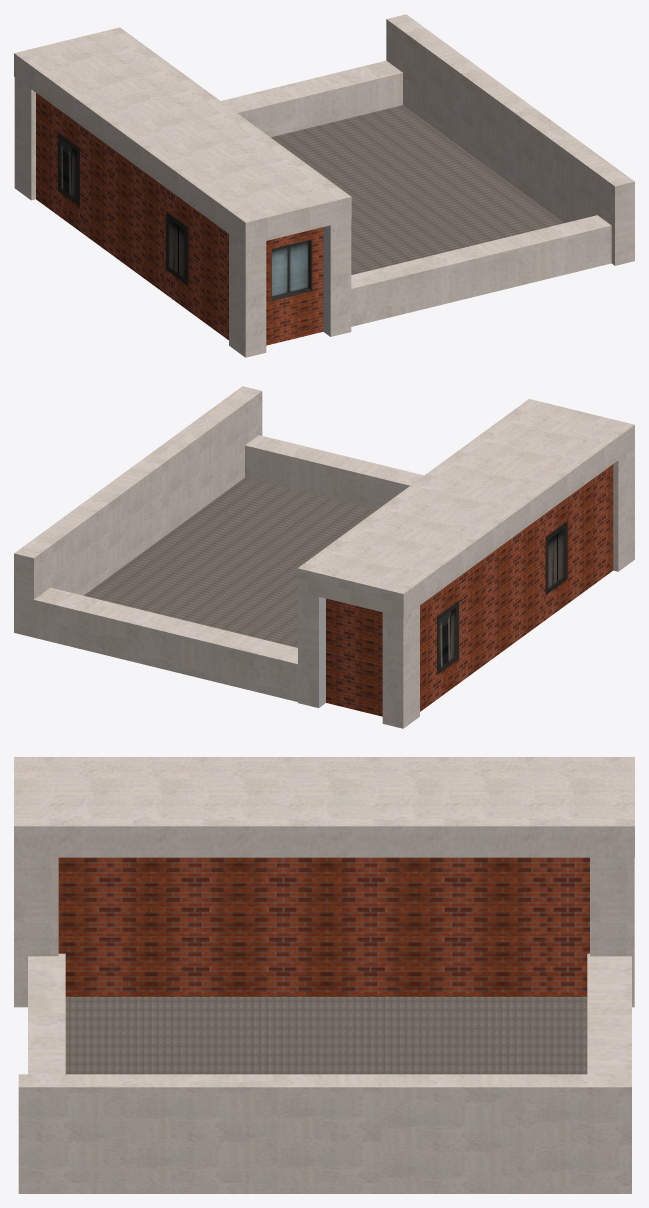
The model's file is building01_3f_02.fbx.
The picture shows the model from 3 angles, top to bottom: view 1: azimuth 30°, elevation 25°; view 2: azimuth 150°, elevation 25°; view 3: azimuth 270°, elevation 25°; orthographic projection. The views are drawn at different scales.
Parts seen in each view (by area): view 1: polySurface11, yane, polySurface14, polySurface13, huti3lf, huti3rf, huti3lb; view 2: polySurface11, yane, polySurface14, polySurface13, huti3lb, huti3rb, huti3lf; view 3: polySurface14, polySurface13, yane, polySurface11, huti3rf, huti3rb.
Part boxes in pixels (left/top/right/bottom): polySurface11: left=221, top=60, right=611, bottom=326; yane: left=14, top=27, right=351, bottom=245; polySurface14: left=36, top=93, right=323, bottom=345; polySurface13: left=386, top=14, right=634, bottom=265; huti3lf: left=229, top=234, right=266, bottom=357; huti3rf: left=323, top=220, right=351, bottom=336; huti3lb: left=14, top=77, right=35, bottom=200; polySurface11: left=34, top=435, right=423, bottom=701; yane: left=297, top=399, right=634, bottom=617; polySurface14: left=326, top=464, right=613, bottom=716; polySurface13: left=14, top=386, right=262, bottom=637; huti3lb: left=382, top=606, right=419, bottom=728; huti3rb: left=298, top=592, right=325, bottom=707; huti3lf: left=613, top=448, right=634, bottom=571; polySurface14: left=58, top=857, right=589, bottom=996; polySurface13: left=18, top=1074, right=631, bottom=1193; yane: left=14, top=757, right=634, bottom=857; polySurface11: left=28, top=953, right=631, bottom=1074; huti3rf: left=14, top=857, right=58, bottom=1007; huti3rb: left=590, top=857, right=634, bottom=1007.
Size of the model in its own units: 812 by 268 by 833.
